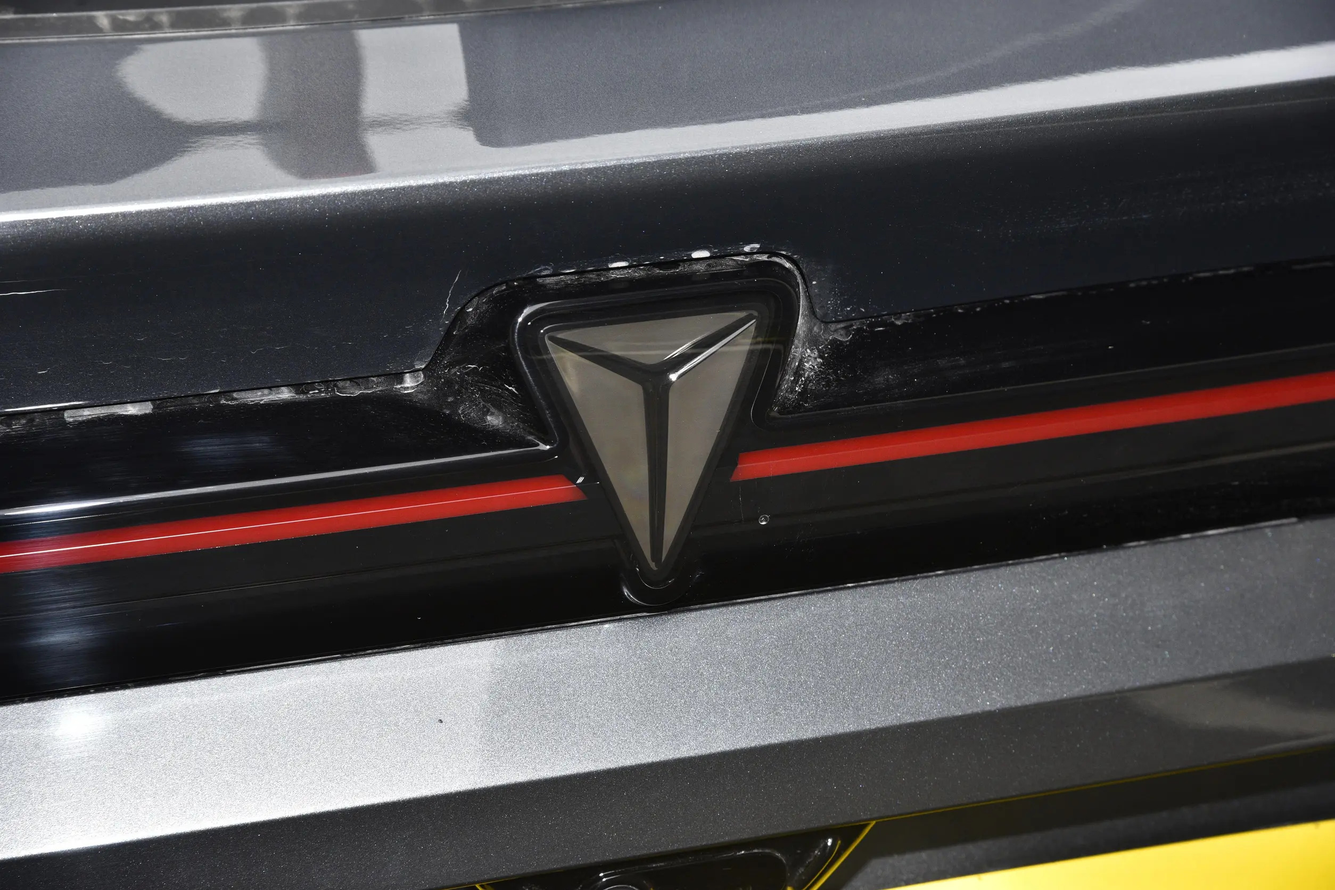Deepal: (544, 311, 762, 571)
